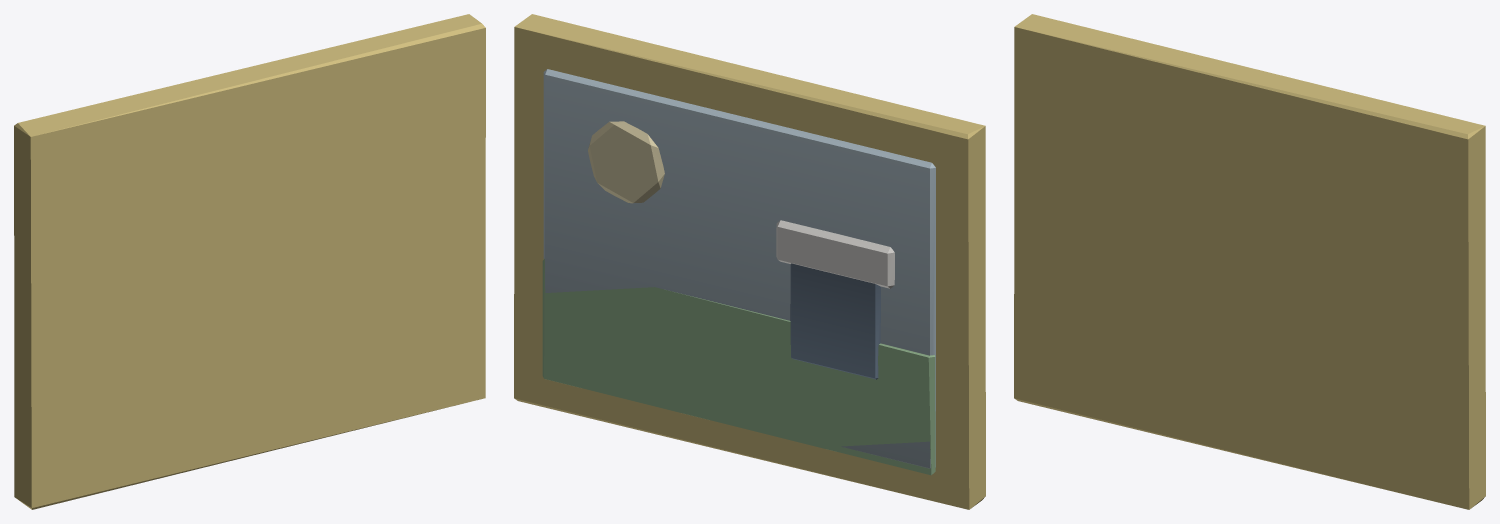
File: furn_picture_frame__gold_low.glb
The picture shows the model from 3 angles, left to right: view 1: azimuth 30°, elevation 25°; view 2: azimuth 150°, elevation 25°; view 3: azimuth 330°, elevation 25°; orthographic projection.
Size of the model in its own units: 0.6954 by 0.55 by 0.0644.
